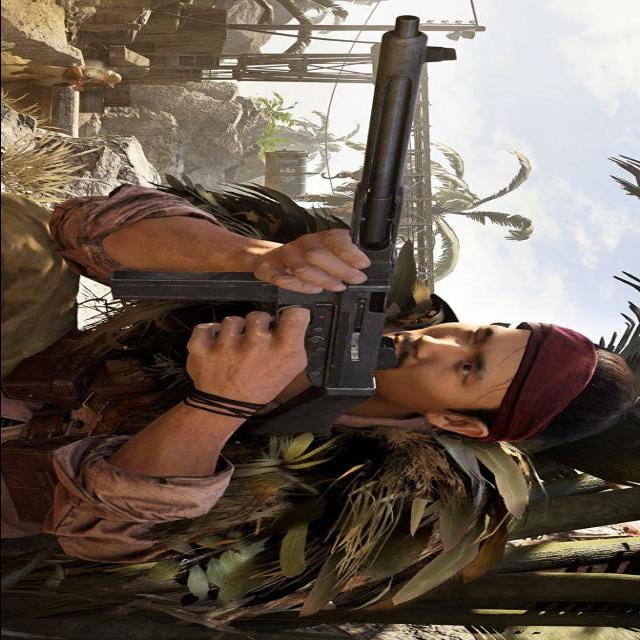rifle: (108, 8, 441, 449)
